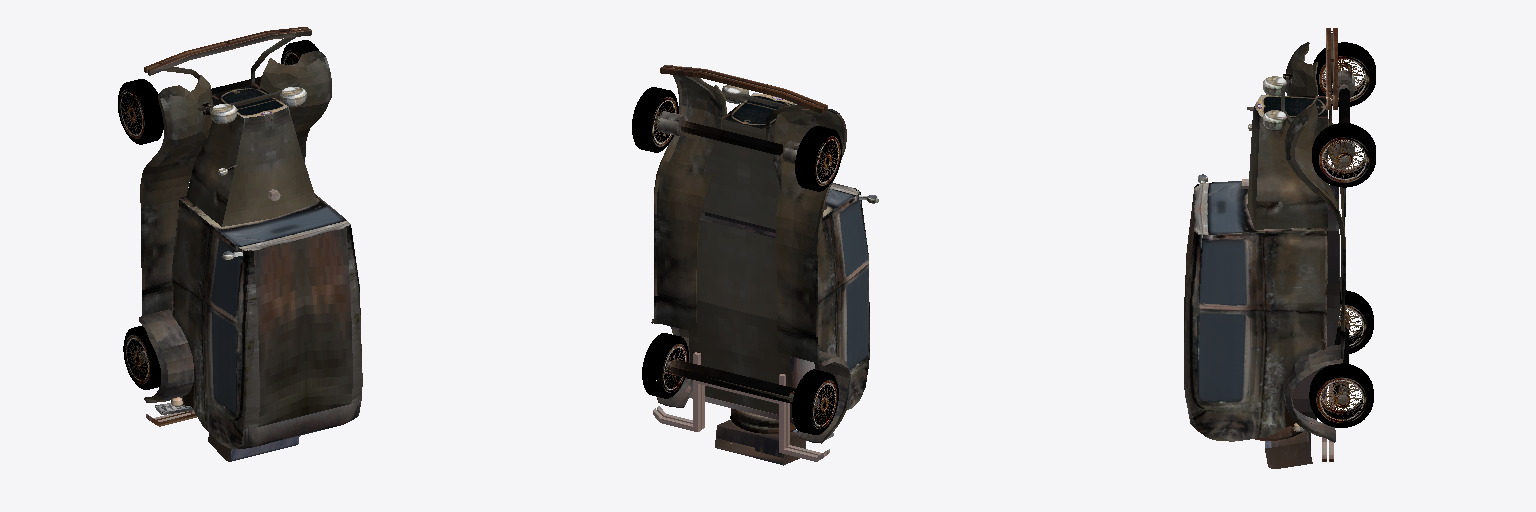
3 views of the same model, side by side, from view 1: azimuth 30°, elevation 25°; view 2: azimuth 150°, elevation 25°; view 3: azimuth 270°, elevation 25° (orthographic).
Parts seen in each view (by area): view 1: Dolly01; view 2: Dolly01; view 3: Dolly01.
Part boxes in pixels (left/top/right/bottom): Dolly01: left=118, top=27, right=362, bottom=461; Dolly01: left=632, top=65, right=878, bottom=465; Dolly01: left=1184, top=28, right=1375, bottom=468.
Bounding box in the file's own units: 2.19 × 4.45 × 1.99.
Materials: 1 (1 with a texture image).